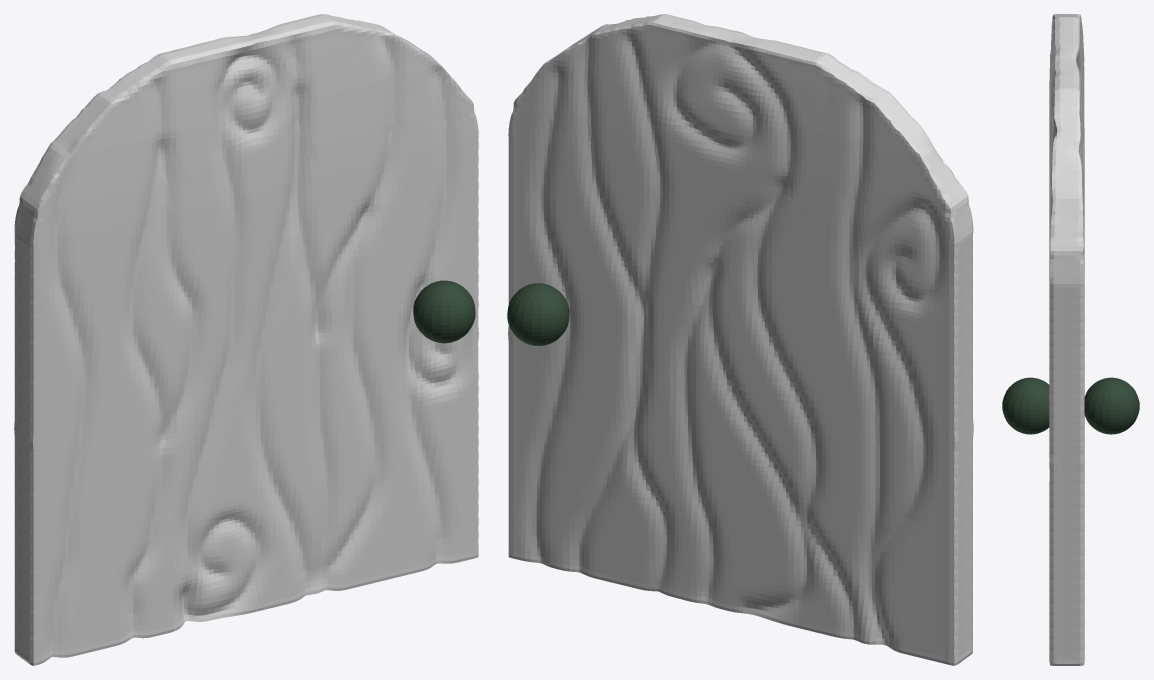
The model's file is textured_door.fbx.
3 views of the same model, side by side, from view 1: azimuth 30°, elevation 25°; view 2: azimuth 150°, elevation 25°; view 3: azimuth 270°, elevation 25° (orthographic). The views are drawn at different scales.
Parts seen in each view (by area): view 1: door, door_handle1; view 2: door, door_handle; view 3: door, door_handle, door_handle1.
Boxes of the visible parts, bbox=[...] form: door: bbox=[14, 14, 478, 665]; door_handle1: bbox=[413, 280, 475, 343]; door: bbox=[508, 14, 973, 665]; door_handle: bbox=[507, 283, 569, 345]; door: bbox=[1049, 14, 1084, 665]; door_handle: bbox=[1084, 377, 1139, 434]; door_handle1: bbox=[1002, 377, 1049, 434].
Bounding box in the file's own units: 9.31 × 11.25 × 2.73.
